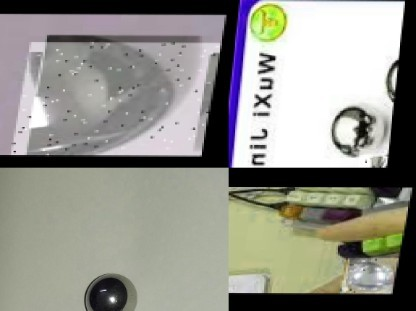ironball: (16, 40, 223, 156), (329, 100, 388, 154), (83, 270, 137, 310), (346, 257, 402, 294), (384, 47, 400, 112), (361, 152, 390, 168)
